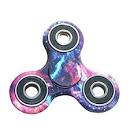fidget_spinner: (9, 11, 121, 124)
